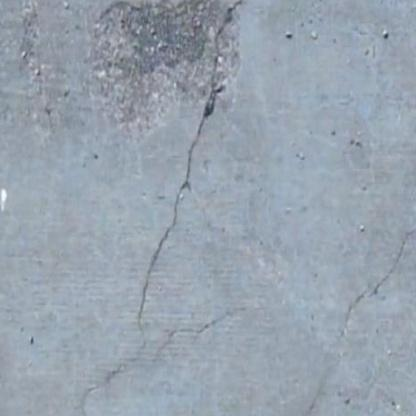Cracks: (76, 0, 261, 416), (276, 212, 416, 416)
